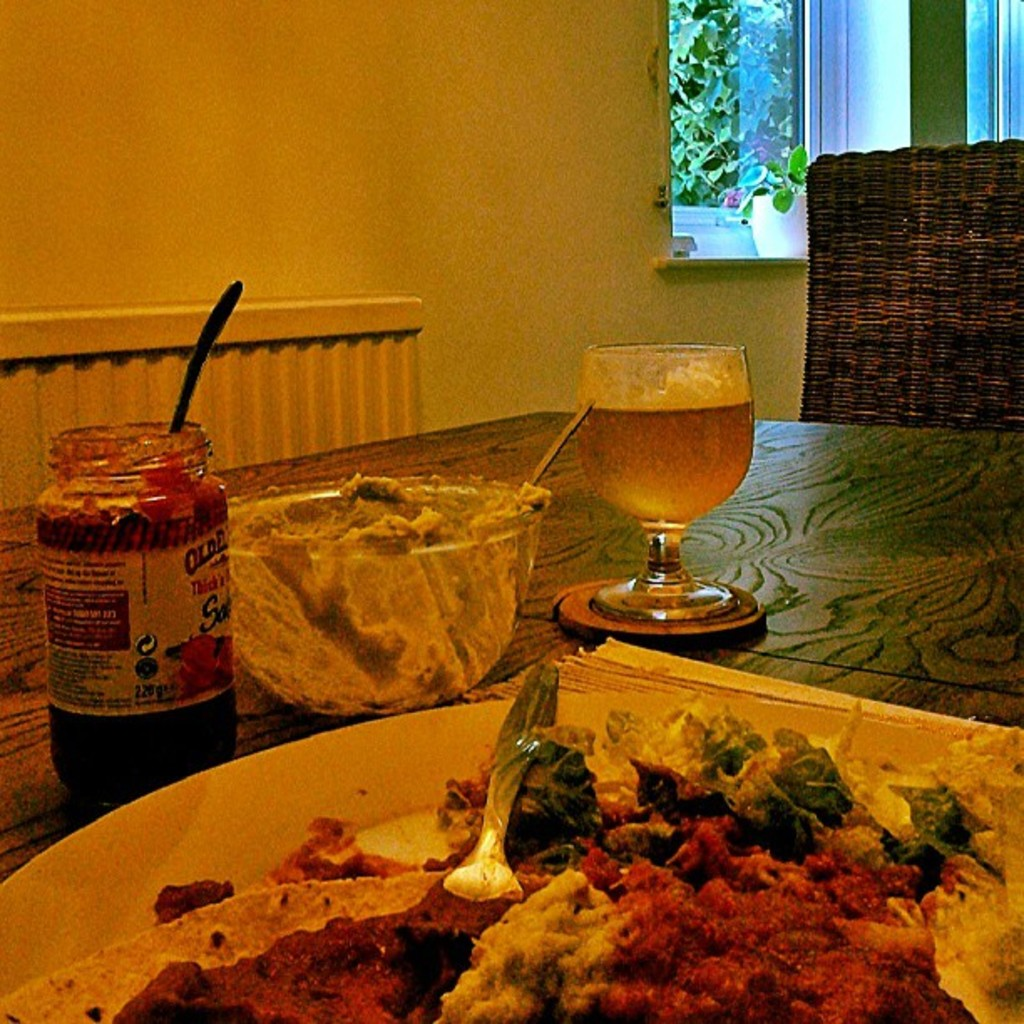Beer: (573, 408, 756, 522)
